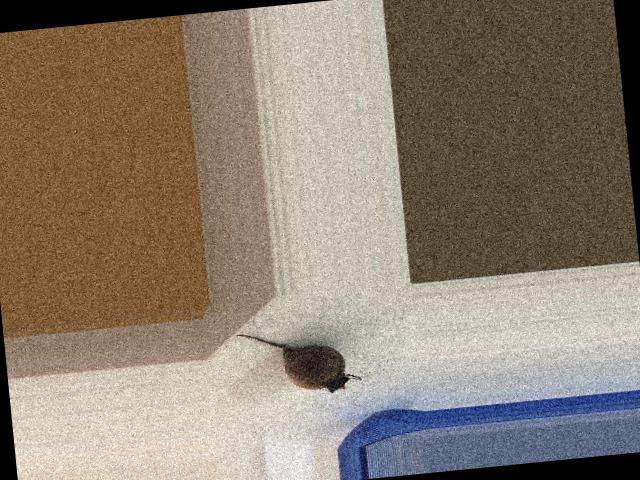beet: (236, 322, 361, 401)
